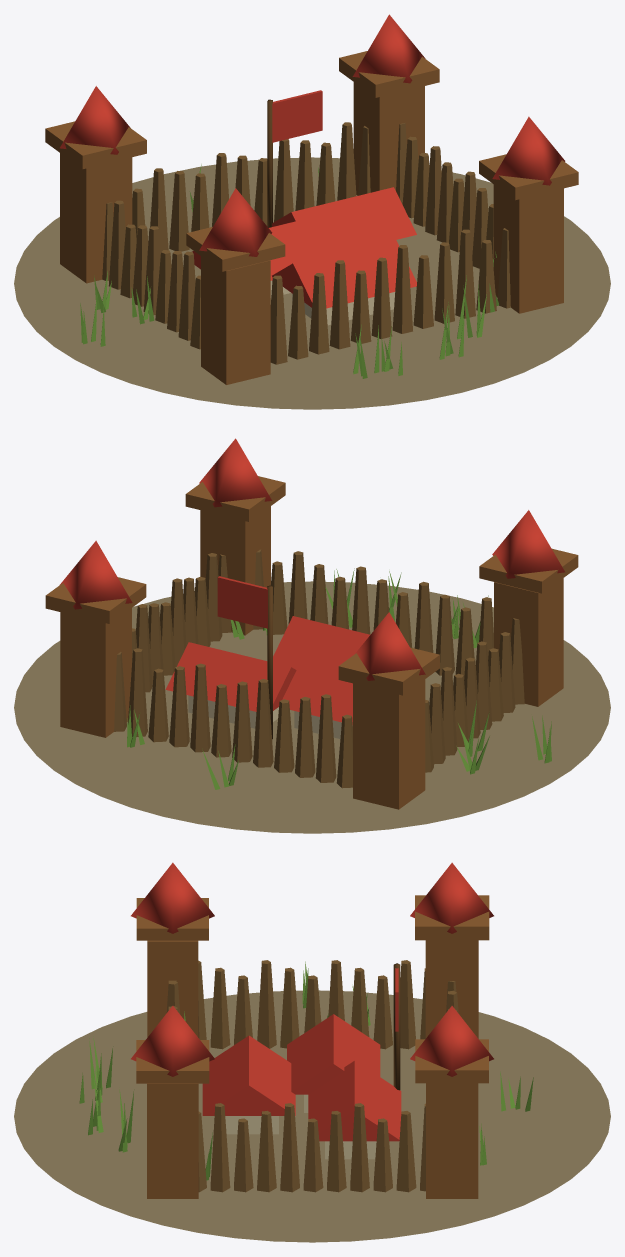
Rendered from improvement_roman_fort.fbx.
3 views of the same model, one above another, from view 1: azimuth 30°, elevation 25°; view 2: azimuth 150°, elevation 25°; view 3: azimuth 270°, elevation 25° (orthographic).
Parts seen in each view (by area): view 1: improvement_roman_fort_gpatch#8a7a5ar.002_00, improvement_roman_fort_wood#7a5a30_02, improvement_roman_fort_wood#8a5a2c.011_03, improvement_roman_fort_rtent3_06, improvement_roman_fort_rtent_04, improvement_roman_fort_leaf#6a9a3a.009_01, improvement_roman_fort_flag#c0392a_08, improvement_roman_fort_wood#5a3c1c.002_07, improvement_roman_fort_rtent2_05; view 2: improvement_roman_fort_gpatch#8a7a5ar.002_00, improvement_roman_fort_wood#7a5a30_02, improvement_roman_fort_wood#8a5a2c.011_03, improvement_roman_fort_rtent3_06, improvement_roman_fort_rtent_04, improvement_roman_fort_leaf#6a9a3a.009_01, improvement_roman_fort_flag#c0392a_08, improvement_roman_fort_rtent2_05, improvement_roman_fort_wood#5a3c1c.002_07; view 3: improvement_roman_fort_gpatch#8a7a5ar.002_00, improvement_roman_fort_wood#8a5a2c.011_03, improvement_roman_fort_wood#7a5a30_02, improvement_roman_fort_rtent3_06, improvement_roman_fort_rtent_04, improvement_roman_fort_leaf#6a9a3a.009_01, improvement_roman_fort_rtent2_05, improvement_roman_fort_wood#5a3c1c.002_07.
Part boxes in pixels (bbox=[...]): improvement_roman_fort_gpatch#8a7a5ar.002_00: bbox=[14, 157, 610, 409]; improvement_roman_fort_wood#7a5a30_02: bbox=[102, 122, 510, 364]; improvement_roman_fort_wood#8a5a2c.011_03: bbox=[45, 51, 578, 384]; improvement_roman_fort_rtent3_06: bbox=[183, 187, 416, 308]; improvement_roman_fort_rtent_04: bbox=[60, 14, 565, 256]; improvement_roman_fort_leaf#6a9a3a.009_01: bbox=[80, 164, 498, 378]; improvement_roman_fort_flag#c0392a_08: bbox=[272, 90, 322, 142]; improvement_roman_fort_wood#5a3c1c.002_07: bbox=[267, 99, 272, 227]; improvement_roman_fort_rtent2_05: bbox=[270, 280, 395, 325]; improvement_roman_fort_gpatch#8a7a5ar.002_00: bbox=[14, 581, 610, 833]; improvement_roman_fort_wood#7a5a30_02: bbox=[114, 549, 524, 788]; improvement_roman_fort_wood#8a5a2c.011_03: bbox=[45, 476, 578, 809]; improvement_roman_fort_rtent3_06: bbox=[165, 616, 370, 724]; improvement_roman_fort_rtent_04: bbox=[60, 438, 564, 680]; improvement_roman_fort_leaf#6a9a3a.009_01: bbox=[127, 568, 551, 789]; improvement_roman_fort_flag#c0392a_08: bbox=[217, 576, 267, 628]; improvement_roman_fort_rtent2_05: bbox=[188, 695, 352, 738]; improvement_roman_fort_wood#5a3c1c.002_07: bbox=[267, 585, 272, 739]; improvement_roman_fort_gpatch#8a7a5ar.002_00: bbox=[14, 990, 610, 1242]; improvement_roman_fort_wood#8a5a2c.011_03: bbox=[136, 895, 489, 1198]; improvement_roman_fort_wood#7a5a30_02: bbox=[166, 960, 458, 1192]; improvement_roman_fort_rtent3_06: bbox=[202, 1014, 401, 1141]; improvement_roman_fort_rtent_04: bbox=[131, 862, 493, 1076]; improvement_roman_fort_leaf#6a9a3a.009_01: bbox=[79, 961, 533, 1180]; improvement_roman_fort_rtent2_05: bbox=[225, 1094, 376, 1159]; improvement_roman_fort_wood#5a3c1c.002_07: bbox=[393, 963, 400, 1090].
Bounding box in the file's own units: 141 × 48.28 × 141.
